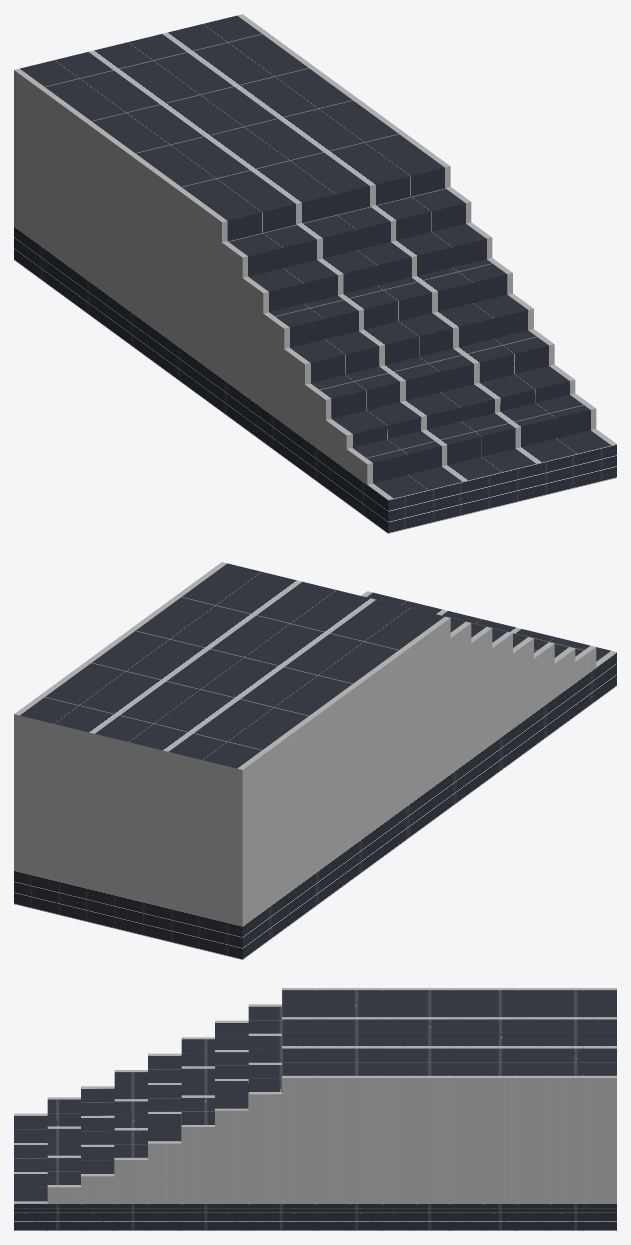
Rendered from stairs.fbx.
3 views of the same model, one above another, from view 1: azimuth 30°, elevation 25°; view 2: azimuth 150°, elevation 25°; view 3: azimuth 270°, elevation 25° (orthographic). The views are drawn at different scales.
Visible parts, largest first — view 1: Cube; view 2: Cube; view 3: Cube.
Part boxes in pixels (left/top/right/bottom): Cube: left=14, top=14, right=616, bottom=533; Cube: left=14, top=562, right=616, bottom=959; Cube: left=14, top=988, right=616, bottom=1230.
Size of the model in its own units: 353 by 280 by 1000.
